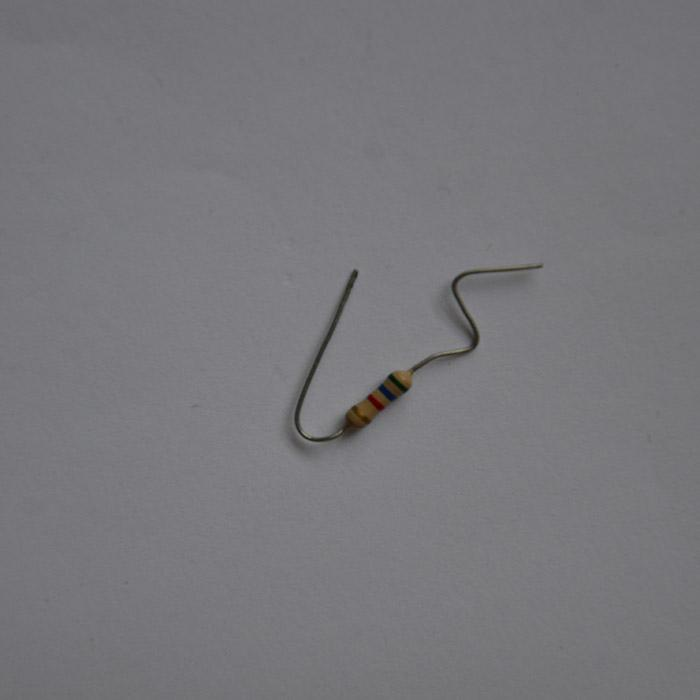resistor: (346, 367, 414, 431)
